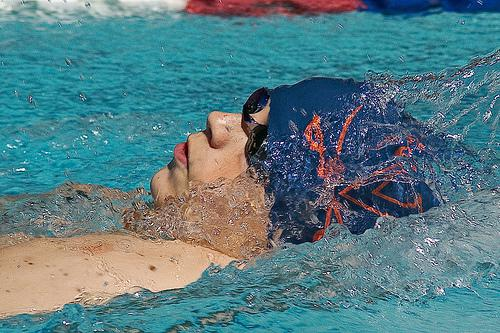human: (0, 72, 500, 326)
